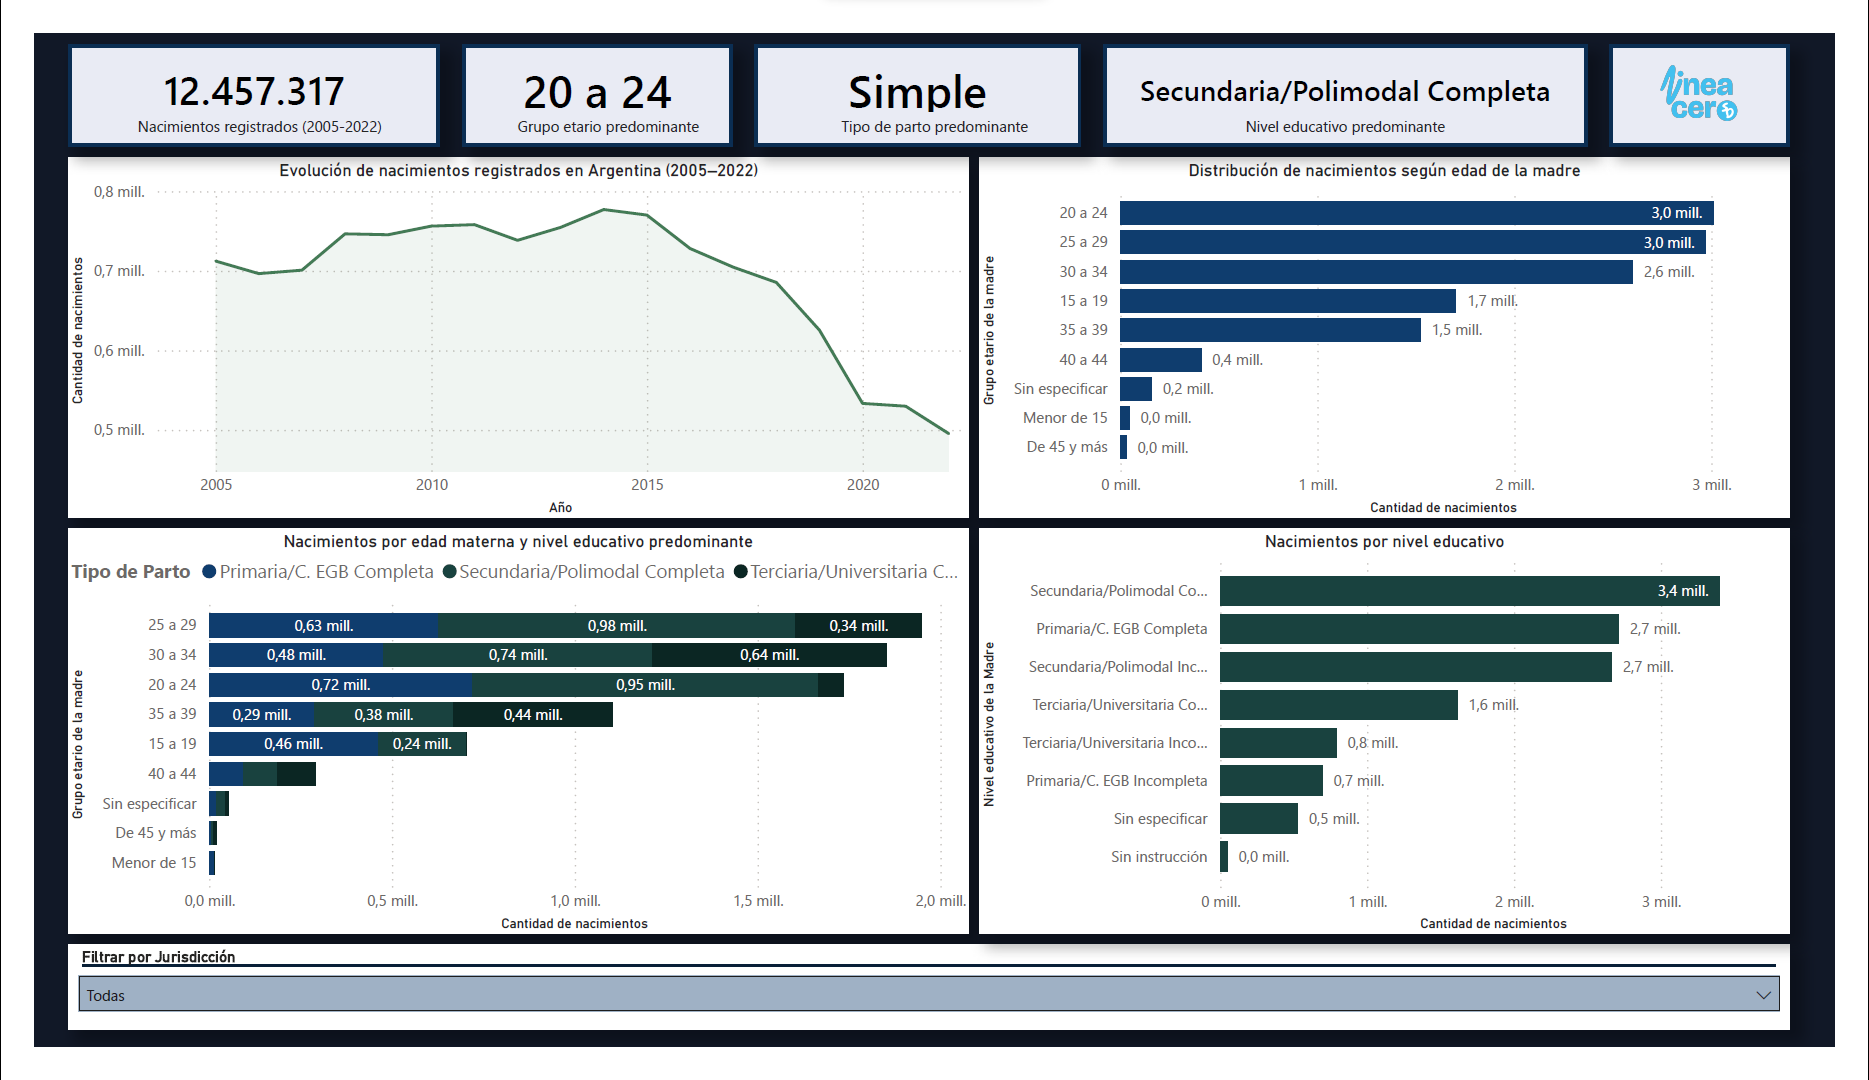

The page's visual inventory and layout, read from the dashboard file:
{"tool":"powerbi","page":{"name":"Overwiev General","canvas":[1280,720],"ordinal":0},"visuals":[{"type":"lineChart","title":"Evolución de nacimientos registrados en Argentina (2005–2022)","fields":{"Category":["dim dim_tiempo.anio"],"Y":["Sum(fact fact_nacimientos.nacimientos_cantidad)"]},"box":[24,88,640,256],"z":0},{"type":"clusteredBarChart","title":"Distribución de nacimientos según edad de la madre","fields":{"Category":["dim dim_edad_madre.edad_madre_grupo"],"Y":["Sum(fact fact_nacimientos.nacimientos_cantidad)"]},"box":[672,88,576,256],"z":1000},{"type":"barChart","title":"Nacimientos por edad materna y nivel educativo predominante","fields":{"Category":["dim dim_edad_madre.edad_madre_grupo"],"Y":["Sum(fact fact_nacimientos.nacimientos_cantidad)"],"Series":["dim dim_instruccion.instruccion_madre"]},"box":[24,352,640,288],"z":2000},{"type":"slicer","fields":{"Values":["dim dim_jurisdiccion.jurisdicion_residencia_nombre"]},"box":[24,648,1224,60],"z":3000},{"type":"clusteredBarChart","title":"Nacimientos por nivel educativo","fields":{"Category":["dim dim_instruccion.instruccion_madre"],"Y":["Sum(fact fact_nacimientos.nacimientos_cantidad)"]},"box":[672,352,576,288],"z":4000},{"type":"cardVisual","title":"Total de Nacimientos","fields":{"Data":["Sum(fact fact_nacimientos.nacimientos_cantidad)"]},"box":[24,8,264,72],"z":5000},{"type":"textbox","box":[64,56,192,24],"z":6000},{"type":"cardVisual","fields":{"Data":["dim dim_edad_madre.Grupo_Etario_Predominante"]},"box":[304,8,192,72],"z":7000},{"type":"textbox","box":[312,56,192,24],"z":8000},{"type":"cardVisual","fields":{"Data":["dim dim_edad_madre.Tipo_Parto_Predominante"]},"box":[512,8,232,72],"z":9000},{"type":"textbox","box":[544,56,192,24],"z":10000},{"type":"cardVisual","fields":{"Data":["dim dim_edad_madre.Nivel_Educativo_Predominante"]},"box":[760,8,344,72],"z":11000},{"type":"textbox","box":[760,56,344,24],"z":12000},{"type":"image","box":[1120,8,128,72],"z":13000}]}

Visuals, with their boxes in screenshot pixels (x1, y1, x2, y2), scaled from the page's 1280x720 canvas onto the 1869x1080 screenshot:
"Evolución de nacimientos registrados en Argentina (2005–2022)" lineChart: crop(35, 132, 970, 516)
"Distribución de nacimientos según edad de la madre" clusteredBarChart: crop(981, 132, 1822, 516)
"Nacimientos por edad materna y nivel educativo predominante" barChart: crop(35, 528, 970, 960)
slicer - dim dim_jurisdiccion.jurisdicion_residencia_nombre: crop(35, 972, 1822, 1062)
"Nacimientos por nivel educativo" clusteredBarChart: crop(981, 528, 1822, 960)
"Total de Nacimientos" cardVisual: crop(35, 12, 421, 120)
textbox: crop(93, 84, 374, 120)
cardVisual - dim dim_edad_madre.Grupo_Etario_Predominante: crop(444, 12, 724, 120)
textbox: crop(456, 84, 736, 120)
cardVisual - dim dim_edad_madre.Tipo_Parto_Predominante: crop(748, 12, 1086, 120)
textbox: crop(794, 84, 1075, 120)
cardVisual - dim dim_edad_madre.Nivel_Educativo_Predominante: crop(1110, 12, 1612, 120)
textbox: crop(1110, 84, 1612, 120)
image: crop(1635, 12, 1822, 120)
